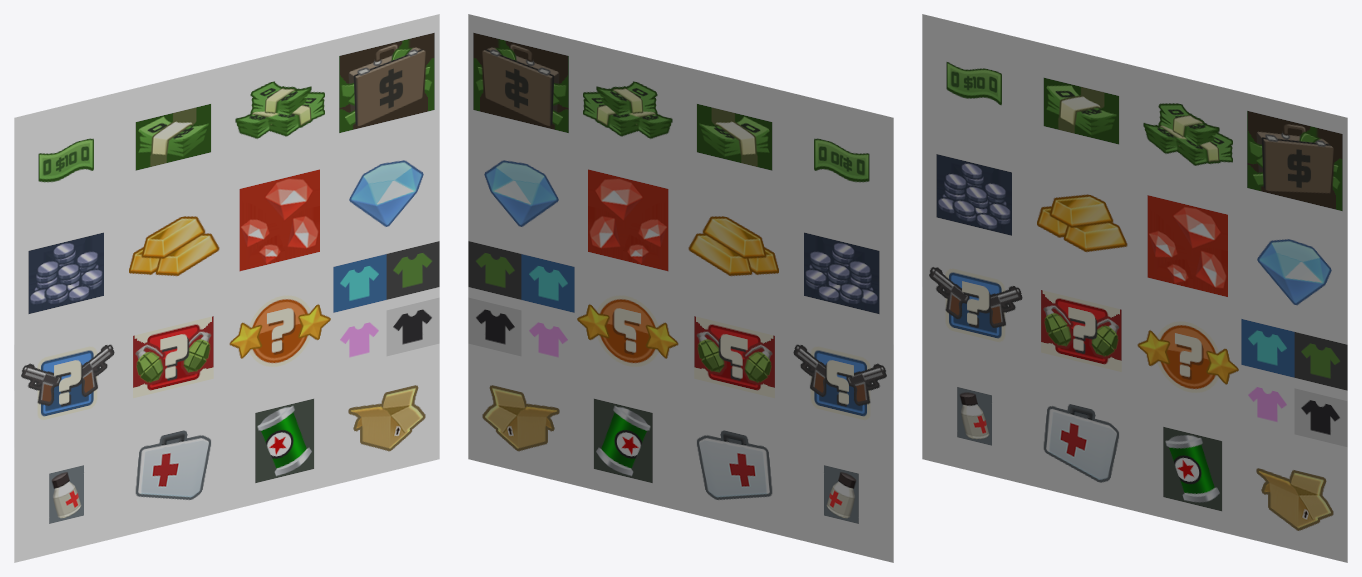
File: PickUps.FBX
3 views of the same model, side by side, from view 1: azimuth 30°, elevation 25°; view 2: azimuth 150°, elevation 25°; view 3: azimuth 330°, elevation 25° (orthographic).
Visible parts, largest first — view 1: PickUpSilver, PickUpColdOne, PickUpExplosive, PickUpWeapon, PickUpDiamond, PickUpRuby, PickUpCashMedium, PickUpCashSmall, PickUpHiddenPackage, PickUpHealthBig, PickUpHealthSmall, PickUpGadget (+7 smaller); view 2: PickUpSilver, PickUpColdOne, PickUpExplosive, PickUpWeapon, PickUpDiamond, PickUpRuby, PickUpCashMedium, PickUpCashSmall, PickUpHiddenPackage, PickUpHealthBig, PickUpHealthSmall, PickUpGadget (+7 smaller); view 3: PickUpWeapon, PickUpDiamond, PickUpHealthBig, PickUpGadget, PickUpGold, PickUpSilver, PickUpCashBig, PickUpCashSmall, PickUpHiddenPackage, PickUpColdOne, PickUpHealthSmall, PickUpExplosive (+7 smaller).
Boxes of the visible parts, <box> form: PickUpSilver: <box>14,203,120,340</box>; PickUpColdOne: <box>227,374,333,510</box>; PickUpExplosive: <box>120,288,226,425</box>; PickUpWeapon: <box>14,314,120,451</box>; PickUpDiamond: <box>333,125,439,262</box>; PickUpRuby: <box>227,151,333,288</box>; PickUpCashMedium: <box>120,66,226,202</box>; PickUpCashSmall: <box>14,92,120,228</box>; PickUpHiddenPackage: <box>333,348,439,484</box>; PickUpHealthBig: <box>120,400,226,536</box>; PickUpHealthSmall: <box>14,426,120,562</box>; PickUpGadget: <box>227,262,333,399</box>; PickUpSilver: <box>787,203,893,340</box>; PickUpColdOne: <box>574,374,680,510</box>; PickUpExplosive: <box>681,288,787,425</box>; PickUpWeapon: <box>787,314,893,451</box>; PickUpDiamond: <box>468,125,574,262</box>; PickUpRuby: <box>574,151,680,288</box>; PickUpCashMedium: <box>681,66,787,202</box>; PickUpCashSmall: <box>787,92,893,228</box>; PickUpHiddenPackage: <box>468,348,574,484</box>; PickUpHealthBig: <box>681,400,787,536</box>; PickUpHealthSmall: <box>787,426,893,562</box>; PickUpGadget: <box>574,262,680,399</box>; PickUpWeapon: <box>922,236,1028,373</box>; PickUpDiamond: <box>1241,203,1347,340</box>; PickUpHealthBig: <box>1028,374,1134,510</box>; PickUpGadget: <box>1135,288,1241,425</box>; PickUpGold: <box>1028,151,1134,288</box>; PickUpSilver: <box>922,125,1028,262</box>; PickUpCashBig: <box>1135,66,1241,202</box>; PickUpCashSmall: <box>922,14,1028,150</box>; PickUpHiddenPackage: <box>1241,426,1347,562</box>; PickUpColdOne: <box>1135,400,1241,536</box>; PickUpHealthSmall: <box>922,348,1028,484</box>; PickUpExplosive: <box>1028,262,1134,399</box>.
Bounding box in the file's own units: 8 × 8 × 1.3e-06.
